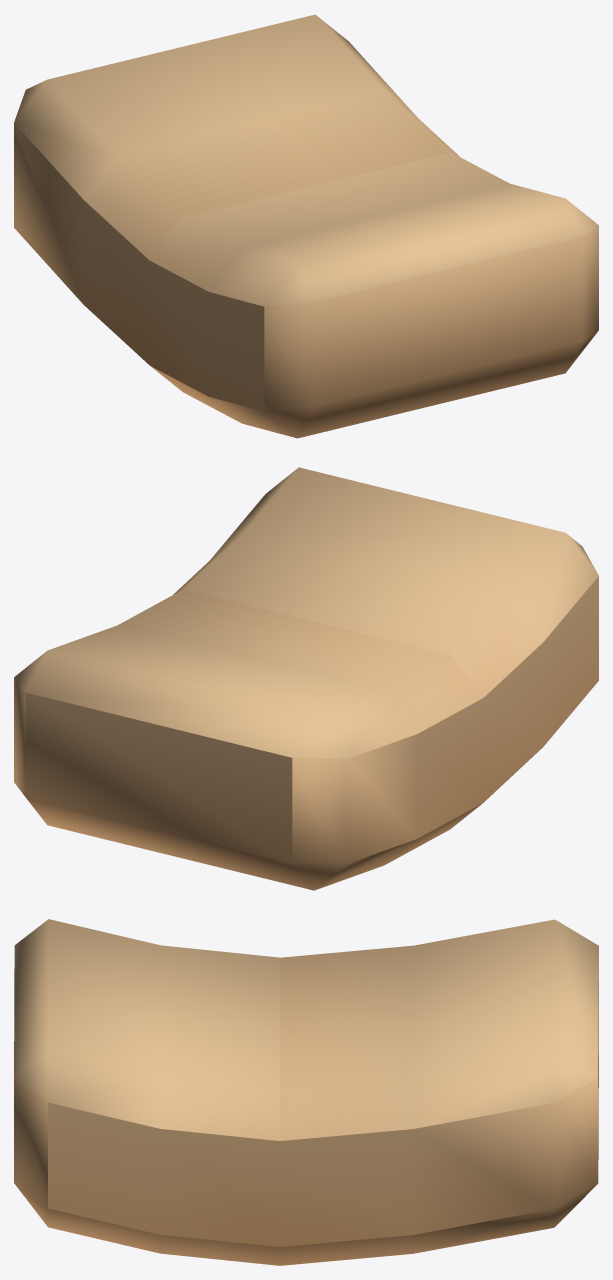
File: sack-rjwgusrG.glb
3 renders of one model, top to bottom at view 1: azimuth 30°, elevation 25°; view 2: azimuth 150°, elevation 25°; view 3: azimuth 270°, elevation 25°, orthographic.
Parts seen in each view (by area): view 1: sack; view 2: sack; view 3: sack.
Part boxes in pixels (x1,y1,x2,y2): sack: [14, 14, 598, 438]; sack: [14, 467, 598, 890]; sack: [14, 919, 598, 1265].
Bounding box in the file's own units: 0.9587 × 0.5821 × 1.44.
Materials: 1 (1 with a texture image).
